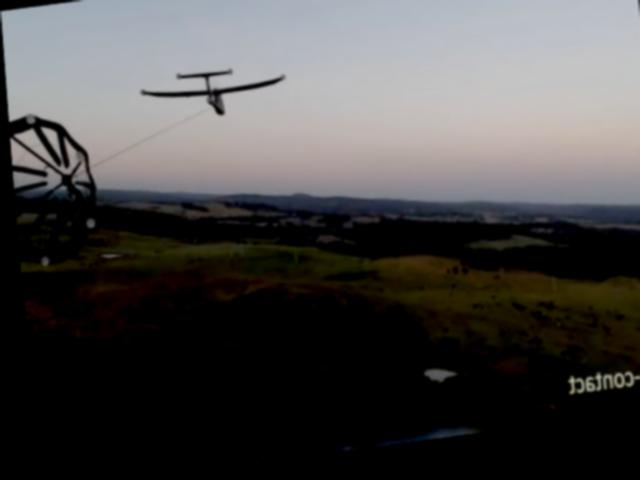uav: (135, 58, 288, 132)
